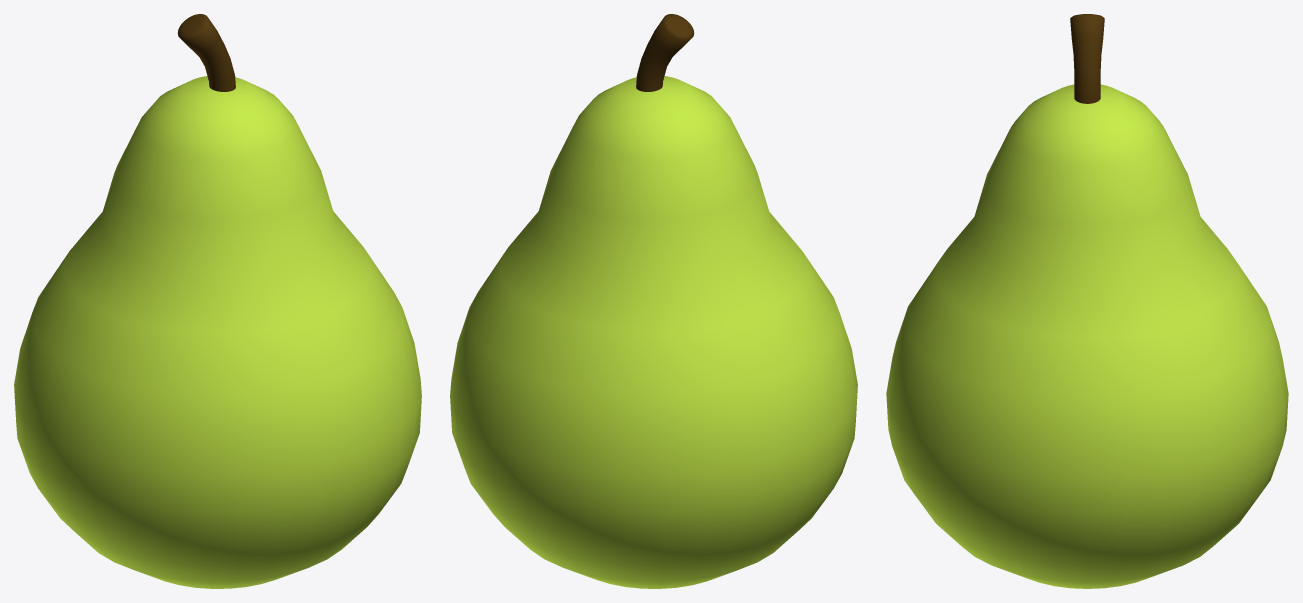
The model's file is Birne.fbx.
The picture shows the model from 3 angles, left to right: view 1: azimuth 30°, elevation 25°; view 2: azimuth 150°, elevation 25°; view 3: azimuth 270°, elevation 25°; orthographic projection.
Parts seen in each view (by area): view 1: Birne_komplett; view 2: Birne_komplett; view 3: Birne_komplett.
Part boxes in pixels (x1,y1,x2,y2): Birne_komplett: [14, 14, 421, 588]; Birne_komplett: [450, 14, 857, 588]; Birne_komplett: [886, 14, 1288, 588].
Size of the model in its own units: 206 by 304 by 206.
